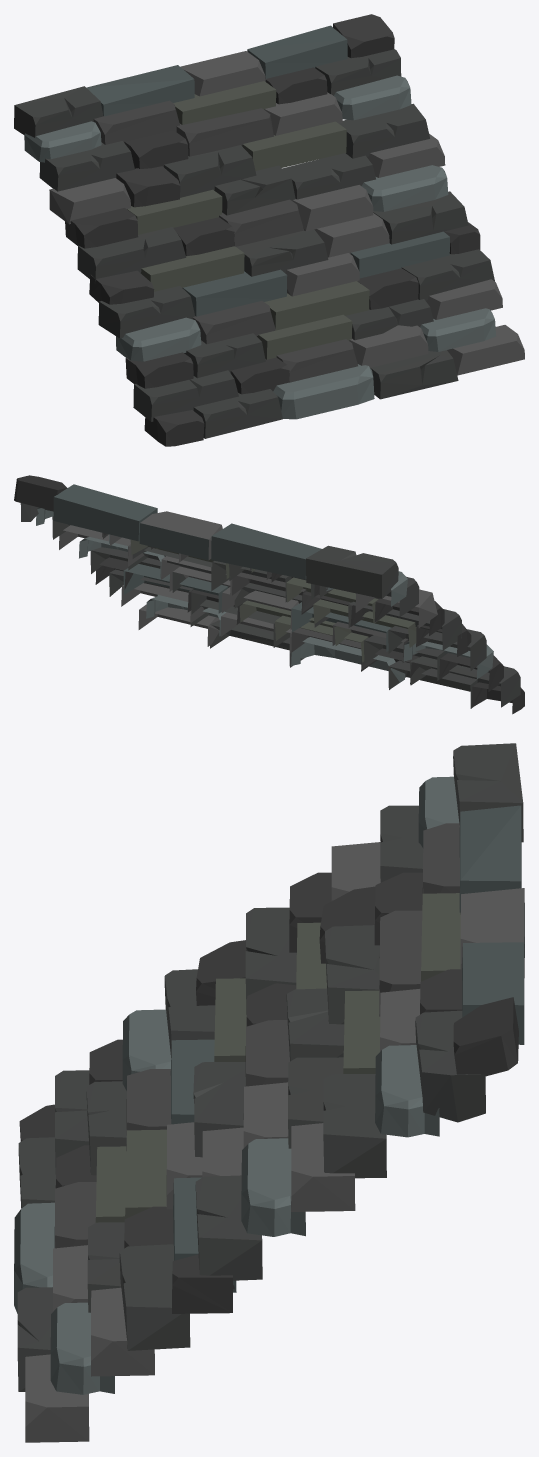
Rendered from ZLP_Stairs_A_6.FBX.
The picture shows the model from 3 angles, top to bottom: view 1: azimuth 30°, elevation 25°; view 2: azimuth 150°, elevation 25°; view 3: azimuth 270°, elevation 25°; orthographic projection. The views are drawn at different scales.
Visible parts, largest first — view 1: ZLP_Stairs_A_6; view 2: ZLP_Stairs_A_6; view 3: ZLP_Stairs_A_6.
Boxes of the visible parts, <box> form: ZLP_Stairs_A_6: <box>14,14,524,446</box>; ZLP_Stairs_A_6: <box>14,475,524,714</box>; ZLP_Stairs_A_6: <box>14,743,524,1442</box>.
Bounding box in the file's own units: 754 × 481 × 540.
